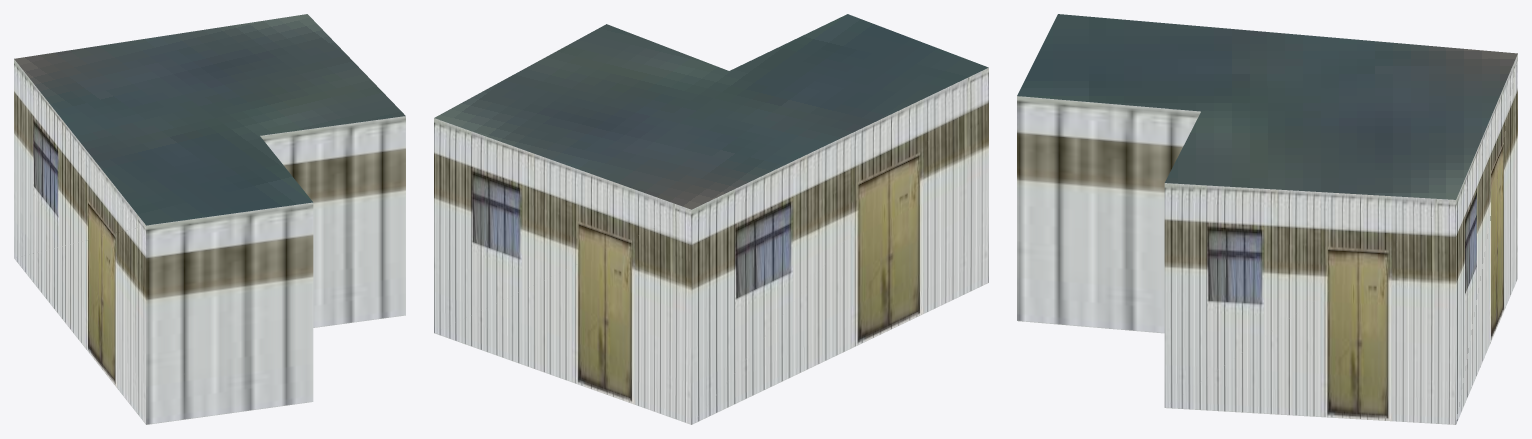
The model's file is T_1T82W4PBF1.dae.
3 views of the same model, side by side, from view 1: azimuth 30°, elevation 25°; view 2: azimuth 150°, elevation 25°; view 3: azimuth 270°, elevation 25° (orthographic). The views are drawn at different scales.
Parts seen in each view (by area): view 1: SketchUp (×2); view 2: SketchUp (×2); view 3: SketchUp (×2).
Boxes of the visible parts, box(x1,y1,x2,y2) form: SketchUp (×2): box(14, 14, 405, 424); SketchUp (×2): box(434, 14, 988, 424); SketchUp (×2): box(1017, 14, 1517, 424).
Size of what is drawn, in the model's own units: 230 by 262 by 130.
Materials: 2 (2 with a texture image).
